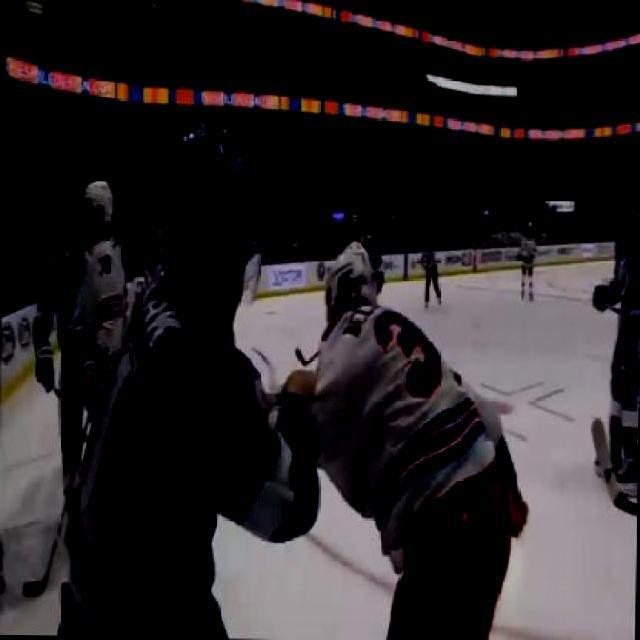fight: (69, 111, 385, 638), (162, 226, 536, 639)
